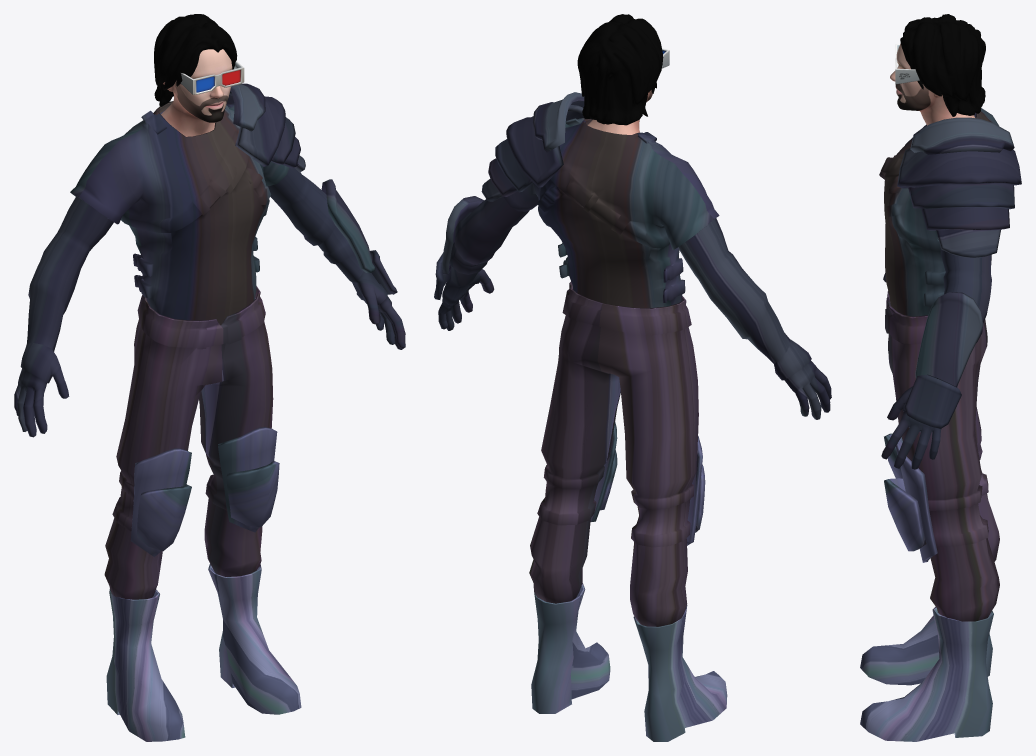
File: fbxavatar.fbx
The picture shows the model from 3 angles, left to right: view 1: azimuth 30°, elevation 25°; view 2: azimuth 150°, elevation 25°; view 3: azimuth 270°, elevation 25°; orthographic projection.
Visible parts, largest first — view 1: Wolf3D_Outfit_Top, Wolf3D_Outfit_Bottom, Wolf3D_Outfit_Footwear, Wolf3D_Hair, Wolf3D_Head, Wolf3D_Glasses; view 2: Wolf3D_Outfit_Top, Wolf3D_Outfit_Bottom, Wolf3D_Outfit_Footwear, Wolf3D_Hair; view 3: Wolf3D_Outfit_Top, Wolf3D_Outfit_Bottom, Wolf3D_Outfit_Footwear, Wolf3D_Hair, Wolf3D_Head, Wolf3D_Glasses.
Part boxes in pixels (bbox=[...]): Wolf3D_Outfit_Top: bbox=[14, 83, 405, 437]; Wolf3D_Outfit_Bottom: bbox=[104, 286, 279, 599]; Wolf3D_Outfit_Footwear: bbox=[106, 564, 301, 741]; Wolf3D_Hair: bbox=[154, 14, 237, 106]; Wolf3D_Head: bbox=[161, 49, 232, 136]; Wolf3D_Glasses: bbox=[180, 60, 244, 94]; Wolf3D_Outfit_Top: bbox=[434, 92, 831, 419]; Wolf3D_Outfit_Bottom: bbox=[529, 281, 705, 626]; Wolf3D_Outfit_Footwear: bbox=[531, 583, 727, 741]; Wolf3D_Hair: bbox=[577, 14, 663, 125]; Wolf3D_Outfit_Top: bbox=[879, 108, 1021, 469]; Wolf3D_Outfit_Bottom: bbox=[884, 291, 999, 621]; Wolf3D_Outfit_Footwear: bbox=[860, 606, 993, 741]; Wolf3D_Hair: bbox=[900, 14, 985, 116]; Wolf3D_Head: bbox=[890, 43, 974, 125]; Wolf3D_Glasses: bbox=[895, 44, 919, 84].
Bounding box in the file's own units: 1.07 × 1.85 × 0.3964.
Materials: 8 (8 with a texture image).
